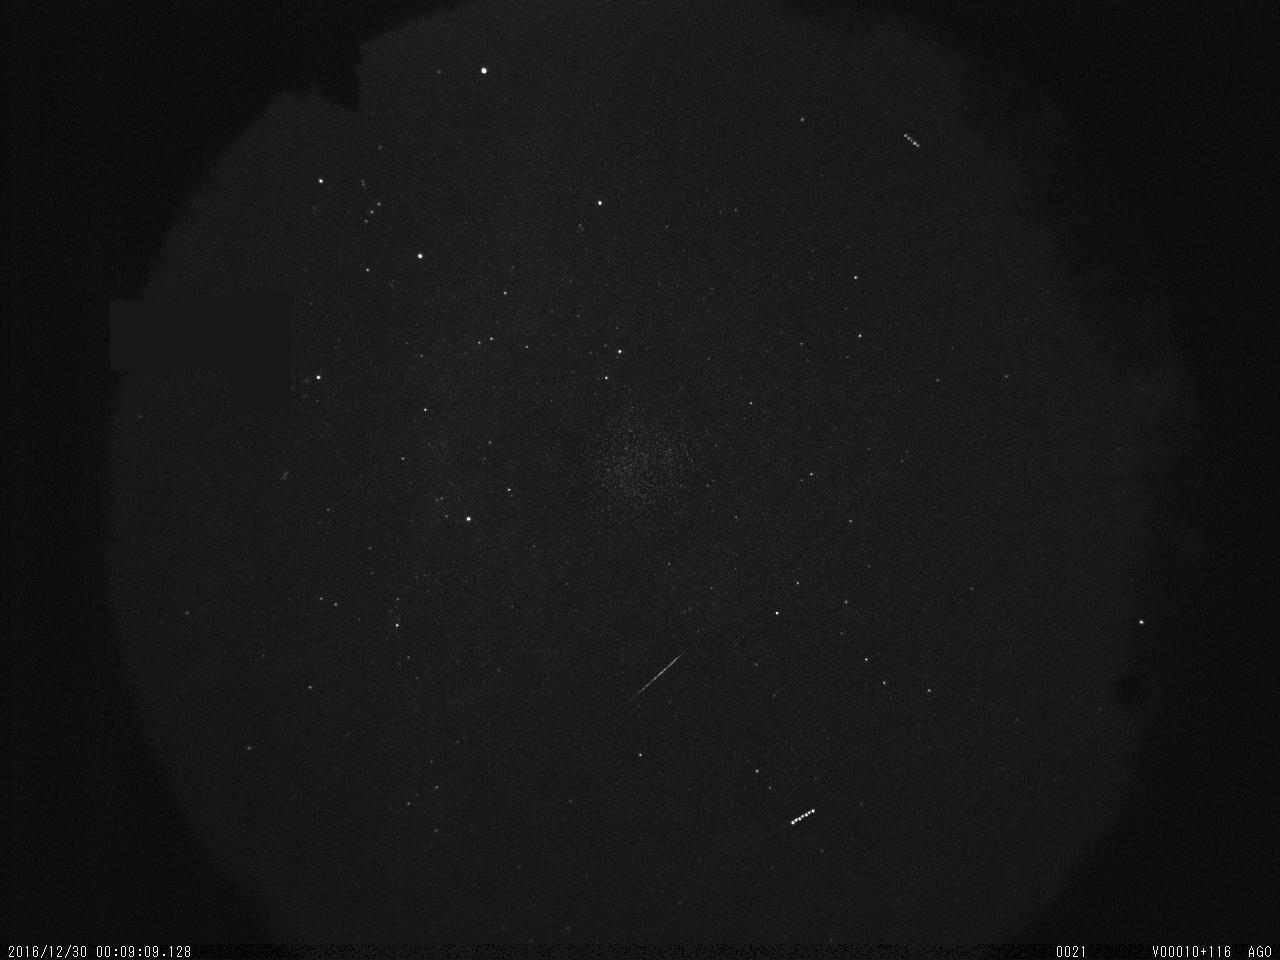Meteor: (624, 650, 688, 705)
